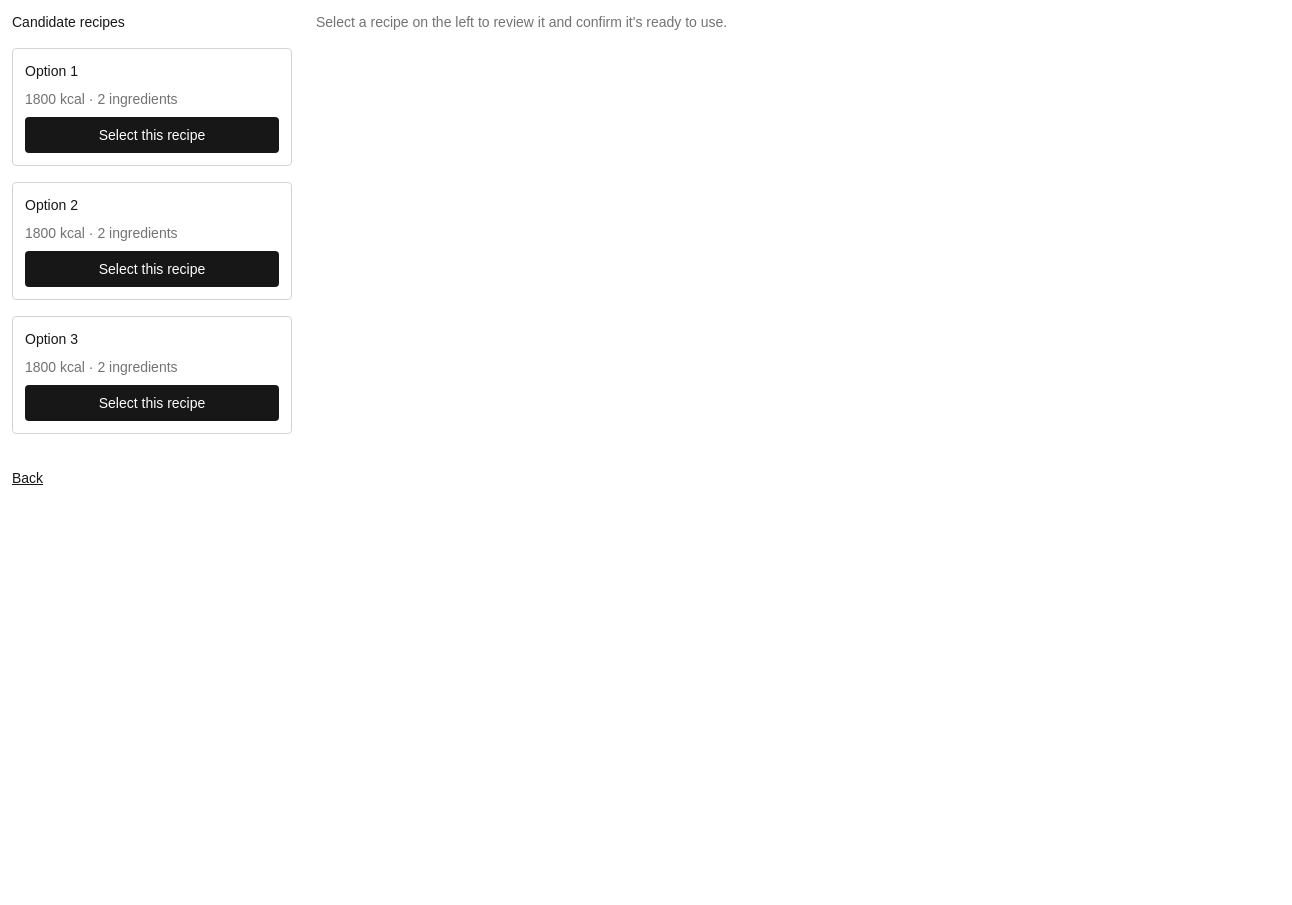
Scenario: Step5GenerateReview › shows full nutrition detail only for the selected candidate, not all three
The width and height of the screenshot is (1292, 905).
Expected: the text "Option 1" is shown, [25,63,78,79]
Click the button "Select this recipe" below "Option 1" at x=152, y=135, box [25,117,279,153]
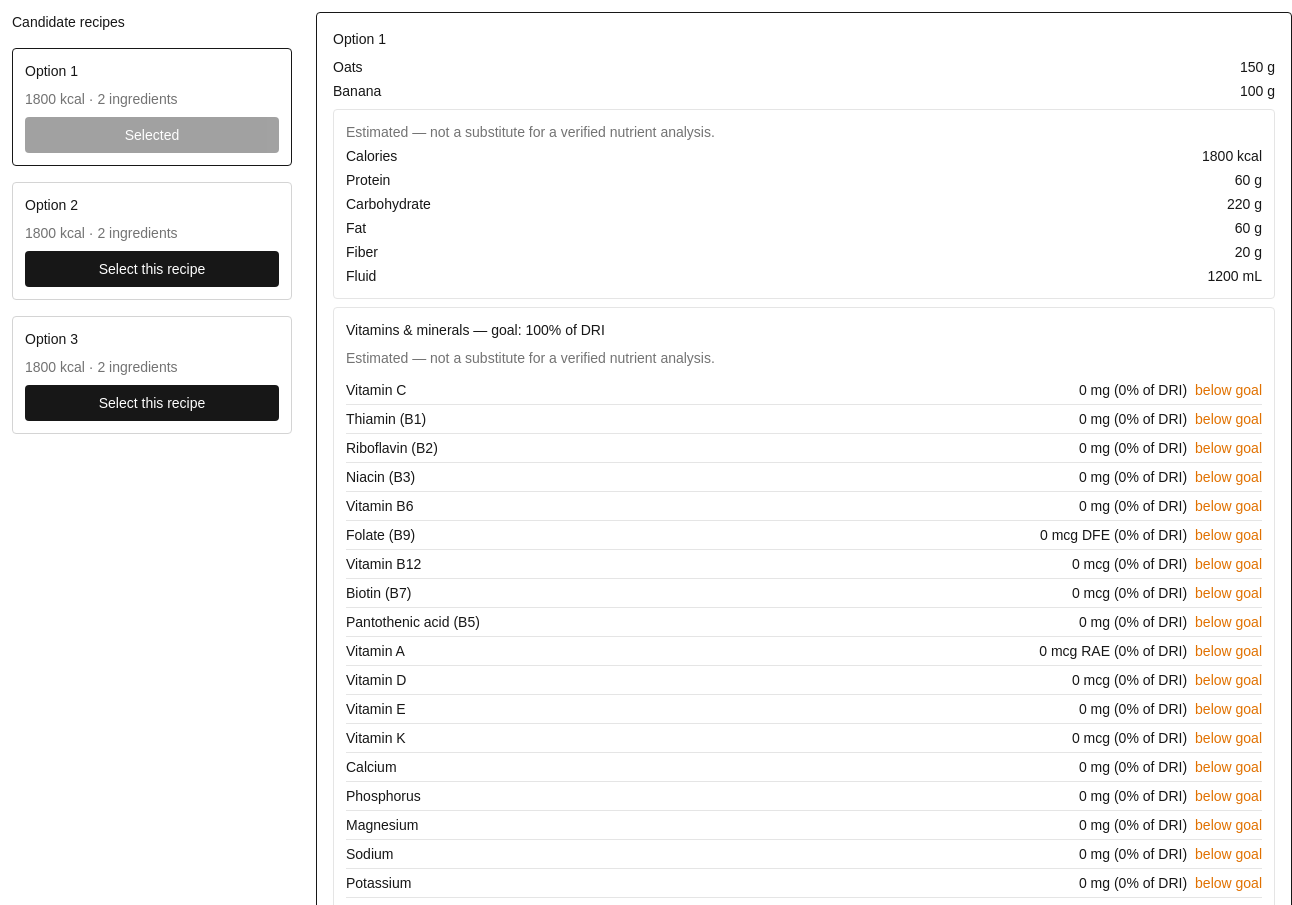
Expected: the text "Protein" is shown once, [346,170,390,190]
Expected: the text "Carbohydrate" is shown once, [346,194,431,214]
Expected: the text "Select a recipe on the left to review it" is gone
